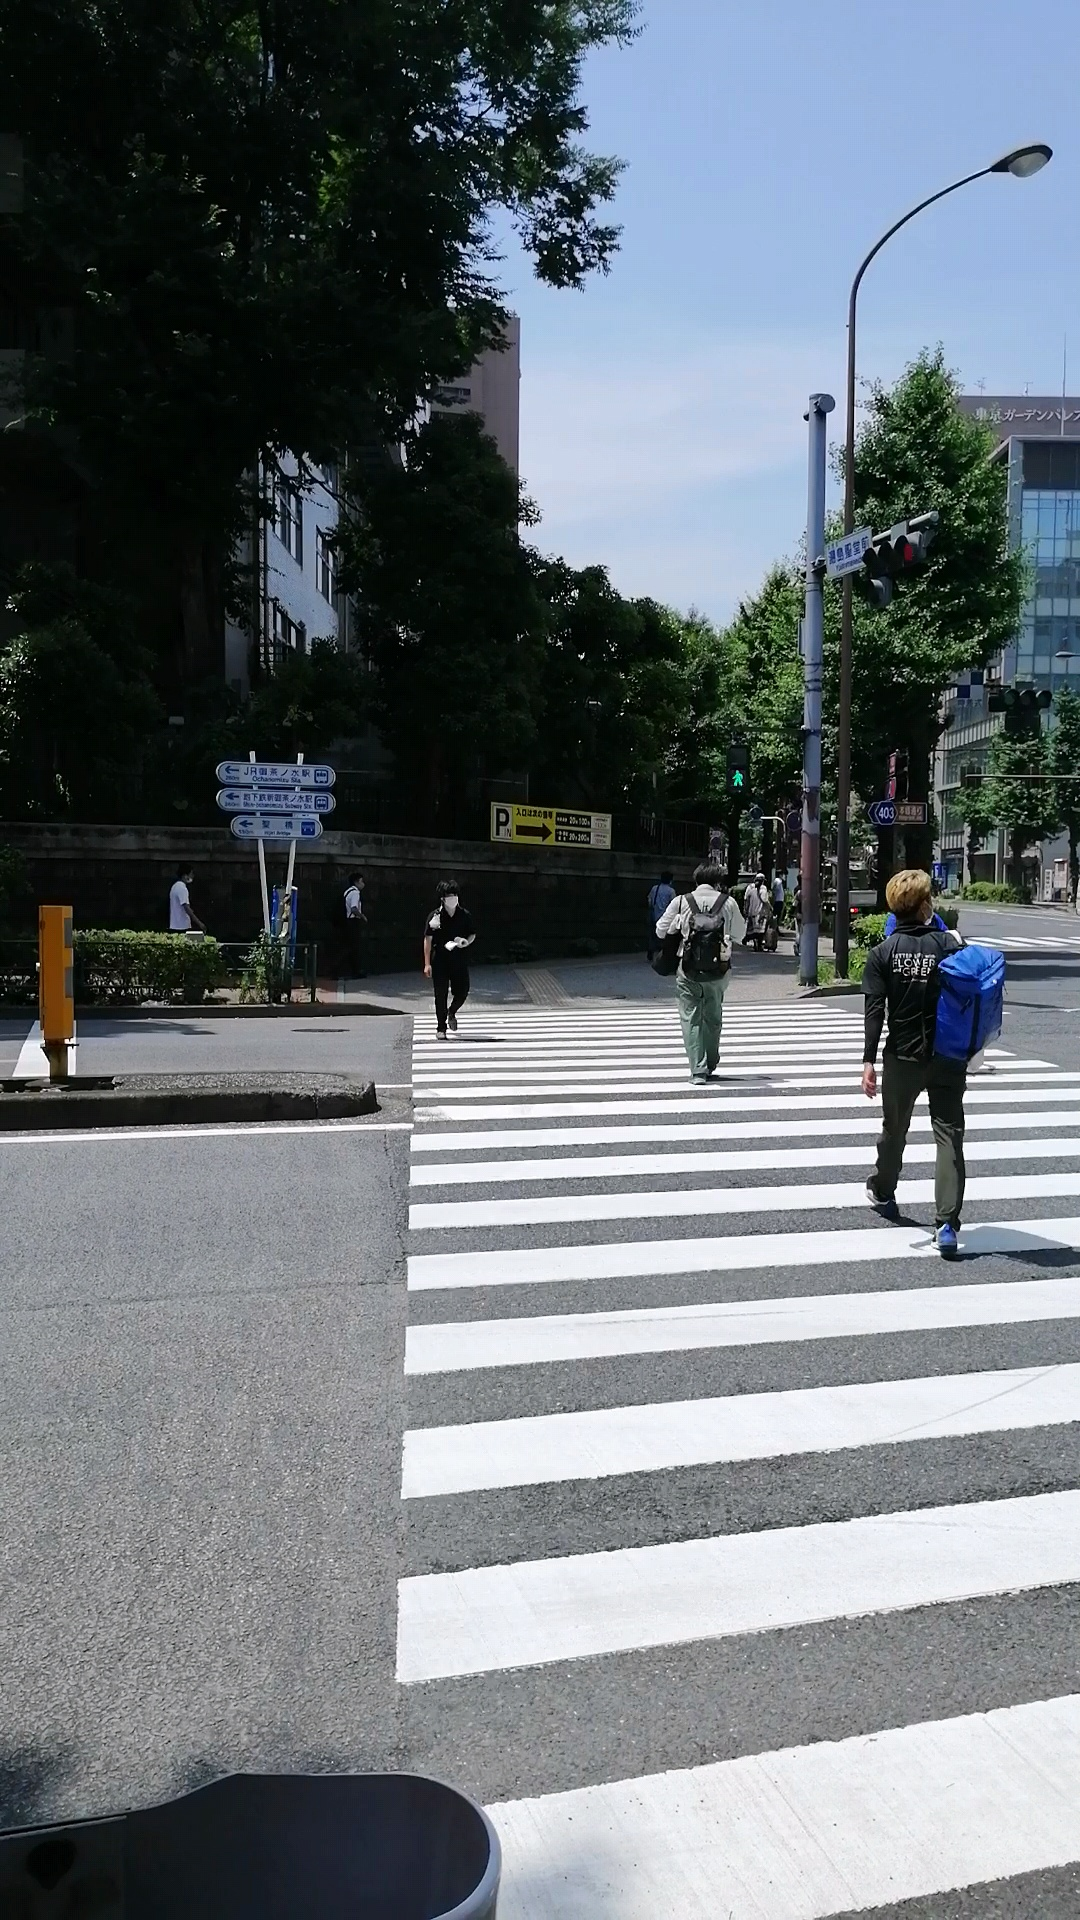green: (724, 746, 750, 796)
